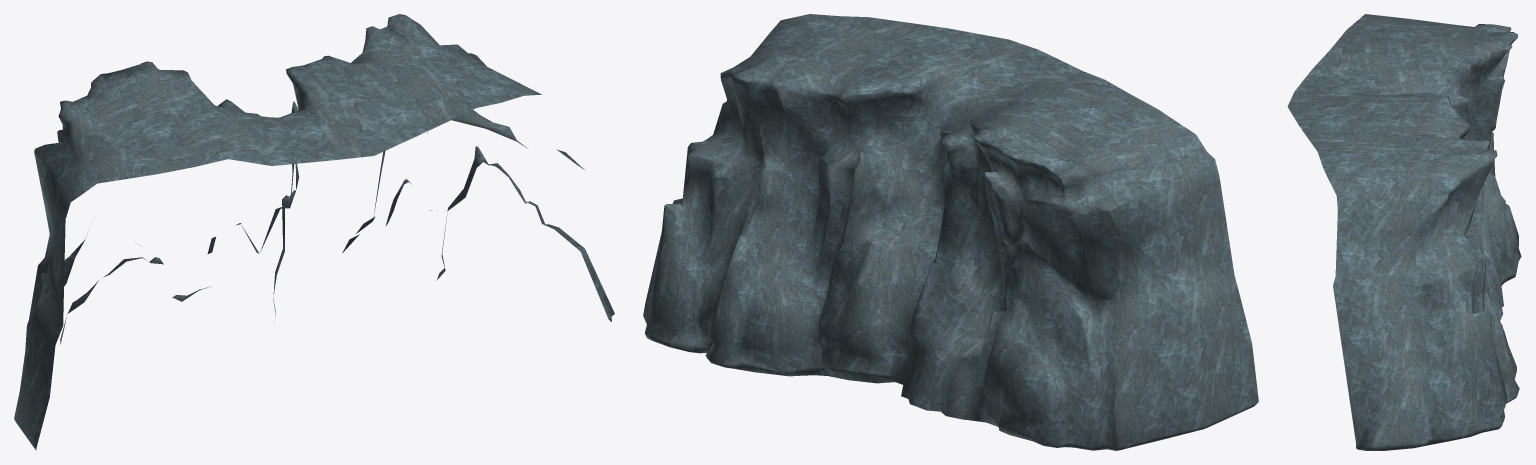
File: tesv_glacierstraightlg01-transformed.glb
3 views of the same model, side by side, from view 1: azimuth 30°, elevation 25°; view 2: azimuth 150°, elevation 25°; view 3: azimuth 270°, elevation 25° (orthographic). The views are drawn at different scales.
Parts seen in each view (by area): view 1: glacierstraightlg01; view 2: glacierstraightlg01; view 3: glacierstraightlg01.
Boxes of the visible parts, left/top/right/bottom form: glacierstraightlg01: left=14, top=14, right=614, bottom=450; glacierstraightlg01: left=643, top=14, right=1258, bottom=450; glacierstraightlg01: left=1287, top=14, right=1521, bottom=450.
Bounding box in the file's own units: 37.15 × 18.14 × 15.25.
1 material, 1 textured.
